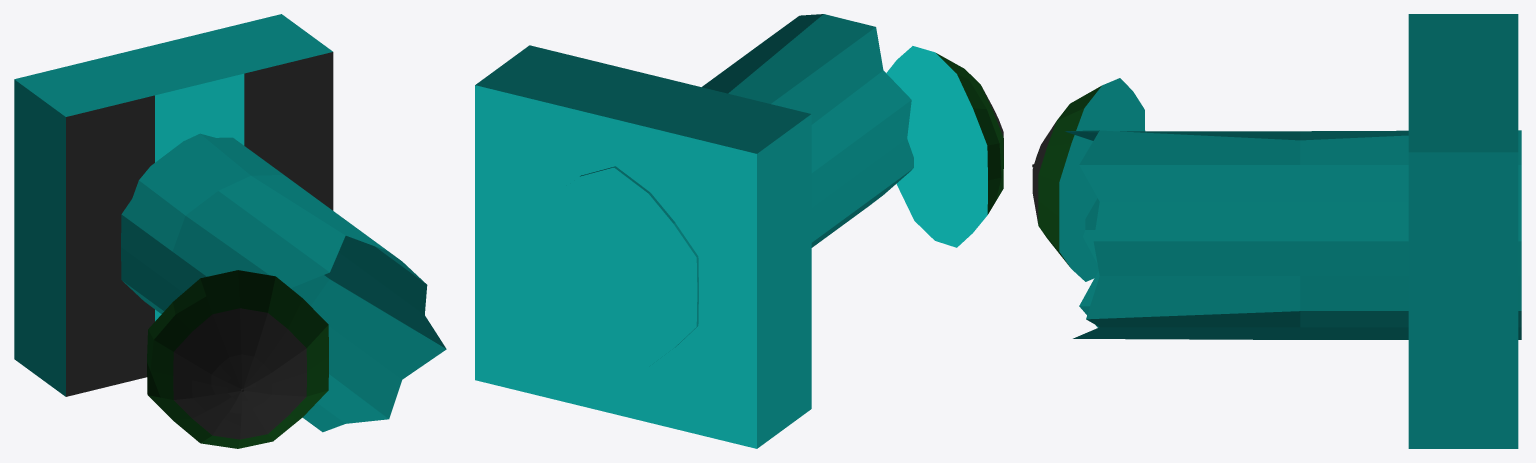
File: stockpile1d.obj
3 renders of one model, left to right at view 1: azimuth 30°, elevation 25°; view 2: azimuth 150°, elevation 25°; view 3: azimuth 270°, elevation 25°, orthographic. The views are drawn at different scales.
Parts seen in each view (by area): view 1: Cube, Cube.001, Cube.002; view 2: Cube, Cube.001, Cube.002; view 3: Cube.001, Cube, Cube.002.
Part boxes in pixels (x1=…): Cube: x1=14, y1=14, x2=333, y2=396; Cube.001: x1=121, y1=133, x2=446, y2=432; Cube.002: x1=147, y1=270, x2=328, y2=448; Cube: x1=475, y1=45, x2=811, y2=448; Cube.001: x1=530, y1=14, x2=913, y2=367; Cube.002: x1=886, y1=46, x2=1003, y2=247; Cube.001: x1=1065, y1=130, x2=1521, y2=339; Cube: x1=1408, y1=14, x2=1518, y2=448; Cube.002: x1=1032, y1=78, x2=1145, y2=281.
Bounding box in the file's own units: 0.8438 × 0.7159 × 1.07.
